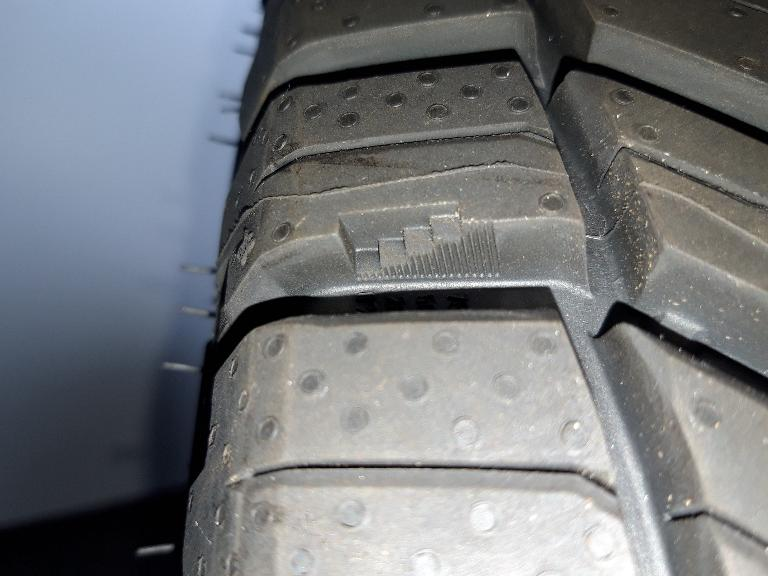temoin:100: (335, 198, 502, 284)
